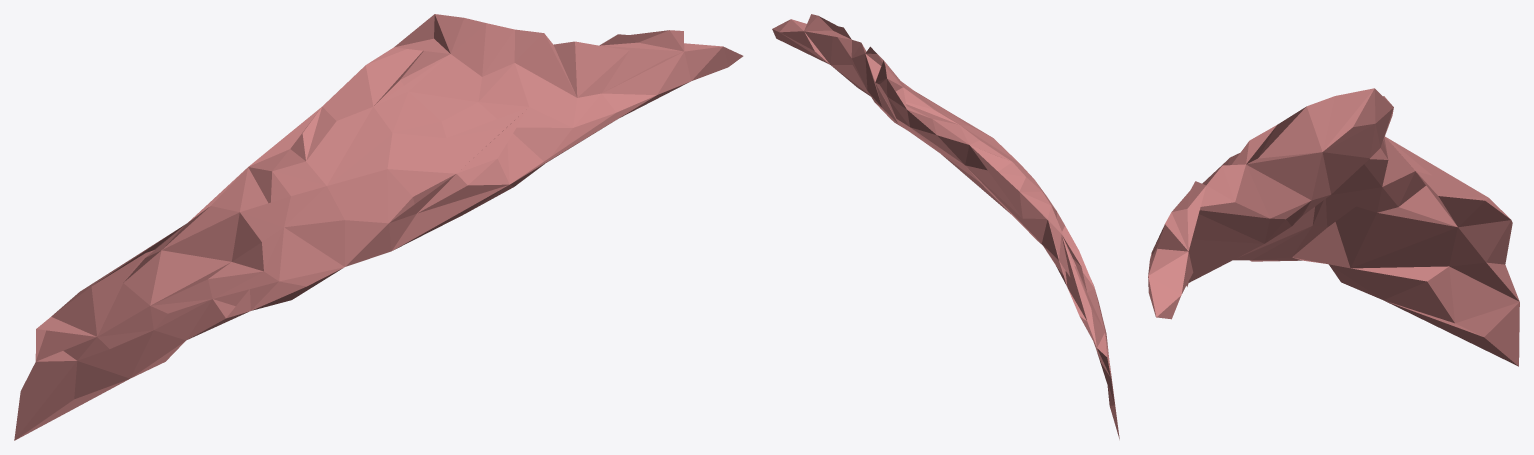
The model's file is Clavicular_head_of_pectoralis_major_muscle.r.glb.
3 views of the same model, side by side, from view 1: azimuth 30°, elevation 25°; view 2: azimuth 150°, elevation 25°; view 3: azimuth 270°, elevation 25° (orthographic). The views are drawn at different scales.
Visible parts, largest first — view 1: Clavicular_head_of_pectoralis_major_muscle.r; view 2: Clavicular_head_of_pectoralis_major_muscle.r; view 3: Clavicular_head_of_pectoralis_major_muscle.r.
Boxes of the visible parts, x1=… form: Clavicular_head_of_pectoralis_major_muscle.r: x1=14, y1=14, x2=743, y2=440; Clavicular_head_of_pectoralis_major_muscle.r: x1=772, y1=14, x2=1119, y2=439; Clavicular_head_of_pectoralis_major_muscle.r: x1=1148, y1=88, x2=1519, y2=366.
Bounding box in the file's own units: 0.1699 × 0.1008 × 0.0624.
